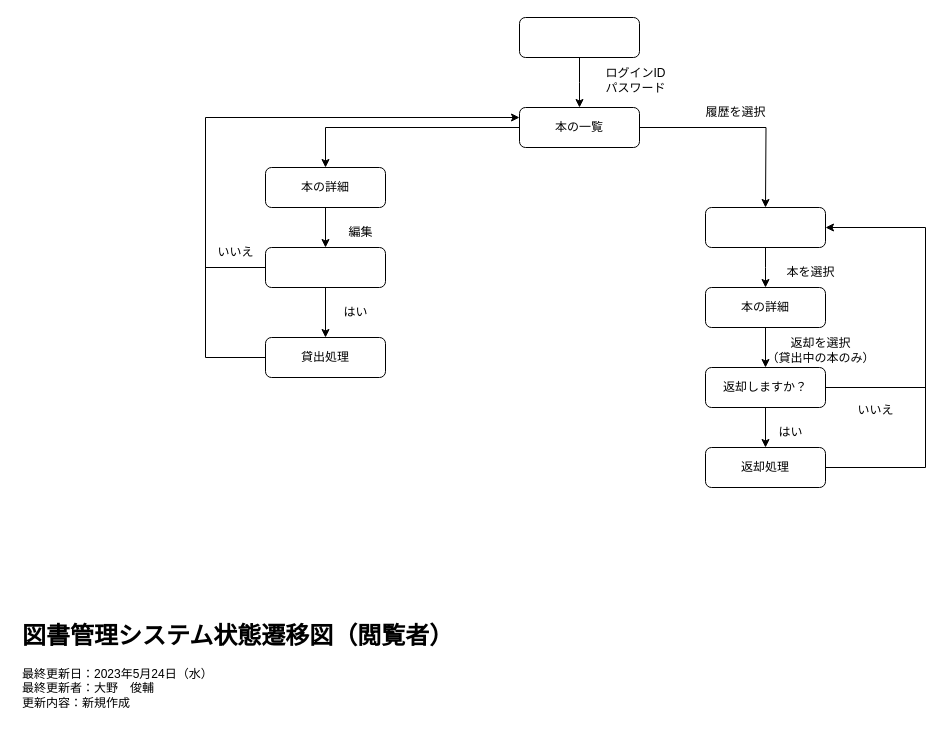
This 951x754 diagram has some shape labels left out. Each missing label, with the centre of its shape:
"ログイン" belongs at (x=579, y=37).
"借りますか？" belongs at (x=325, y=267).
"履歴" belongs at (x=765, y=227).
